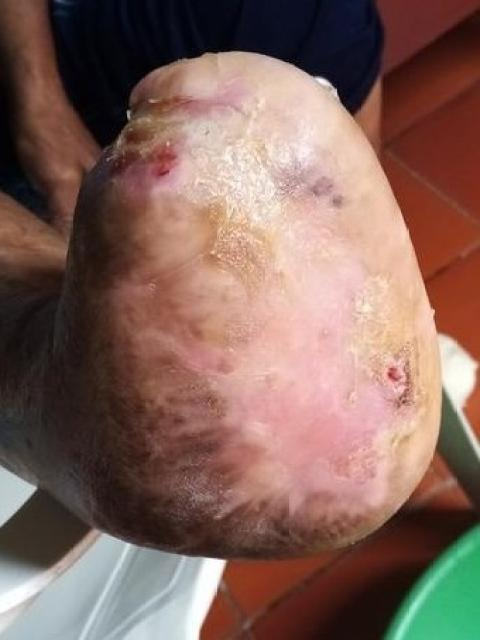wound: (191, 244, 433, 493), (94, 80, 261, 195)
